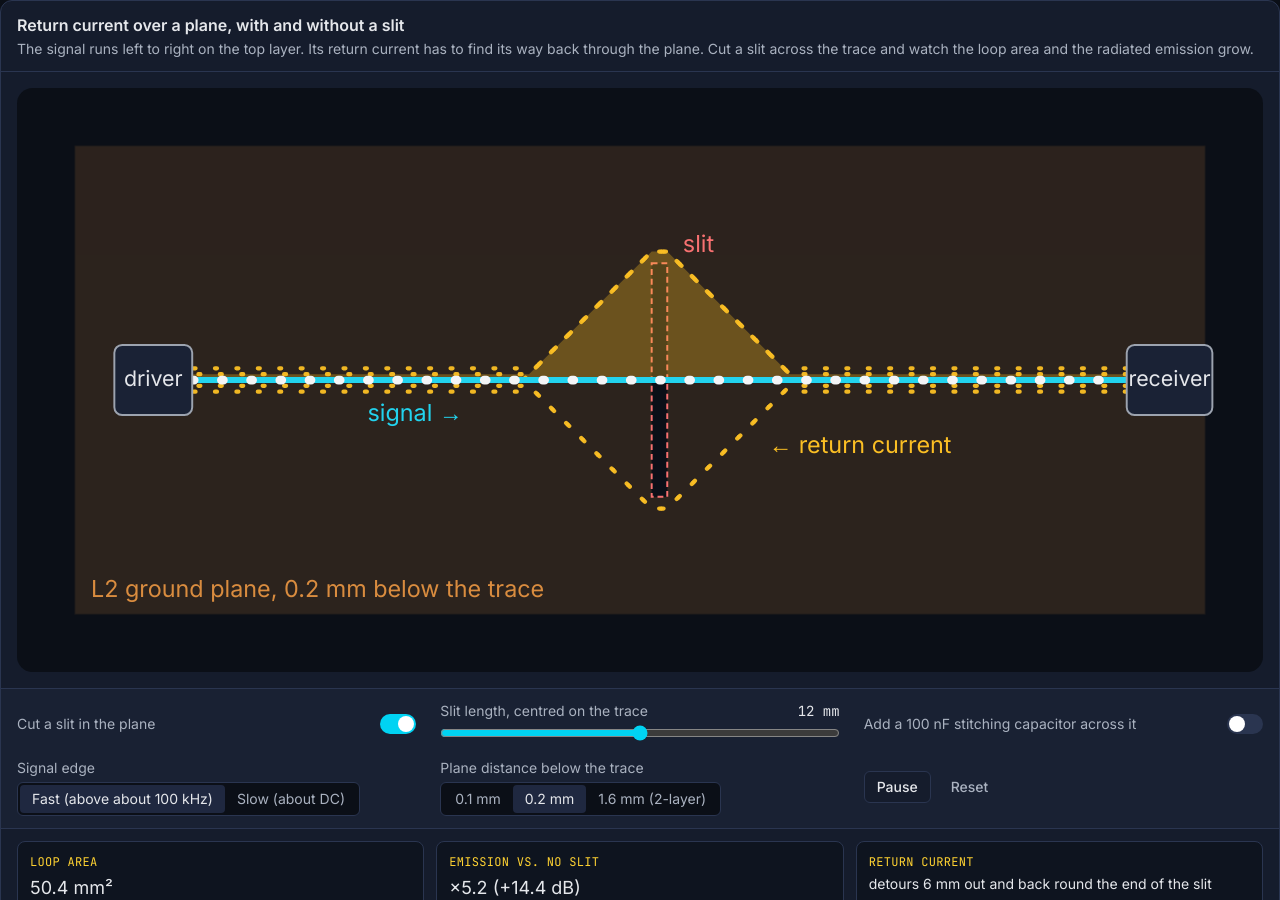
Scenario: ReturnPathDemo › a closer plane gives a smaller loop and slow signals have no loop to measure
The image size is (1280, 900).
Click the switch labelled "Cut a slit in the plane" at (86, 723), box [17,701,416,746]
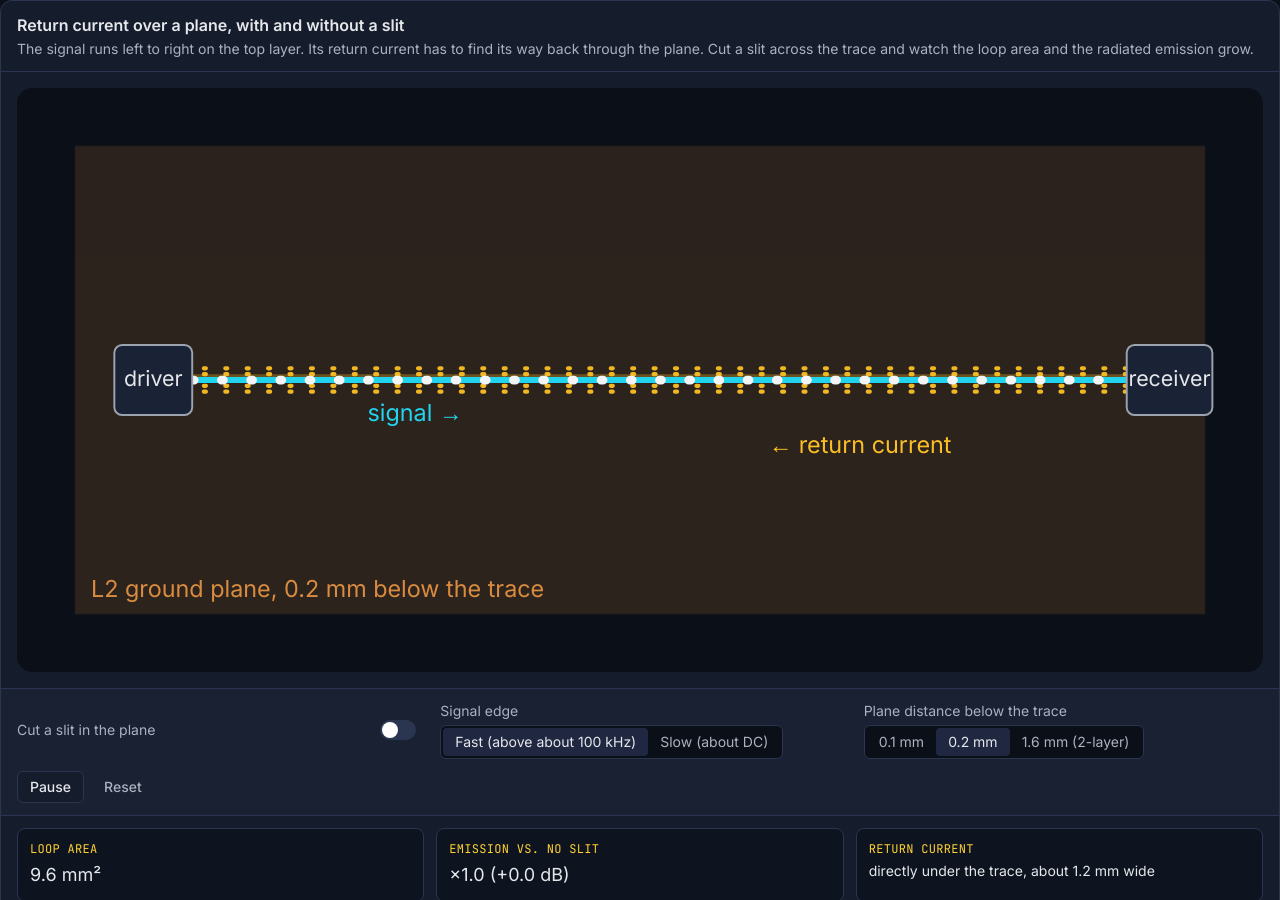
Click the radio button labelled "0.1 mm" at (901, 742), box [867,728,936,756]
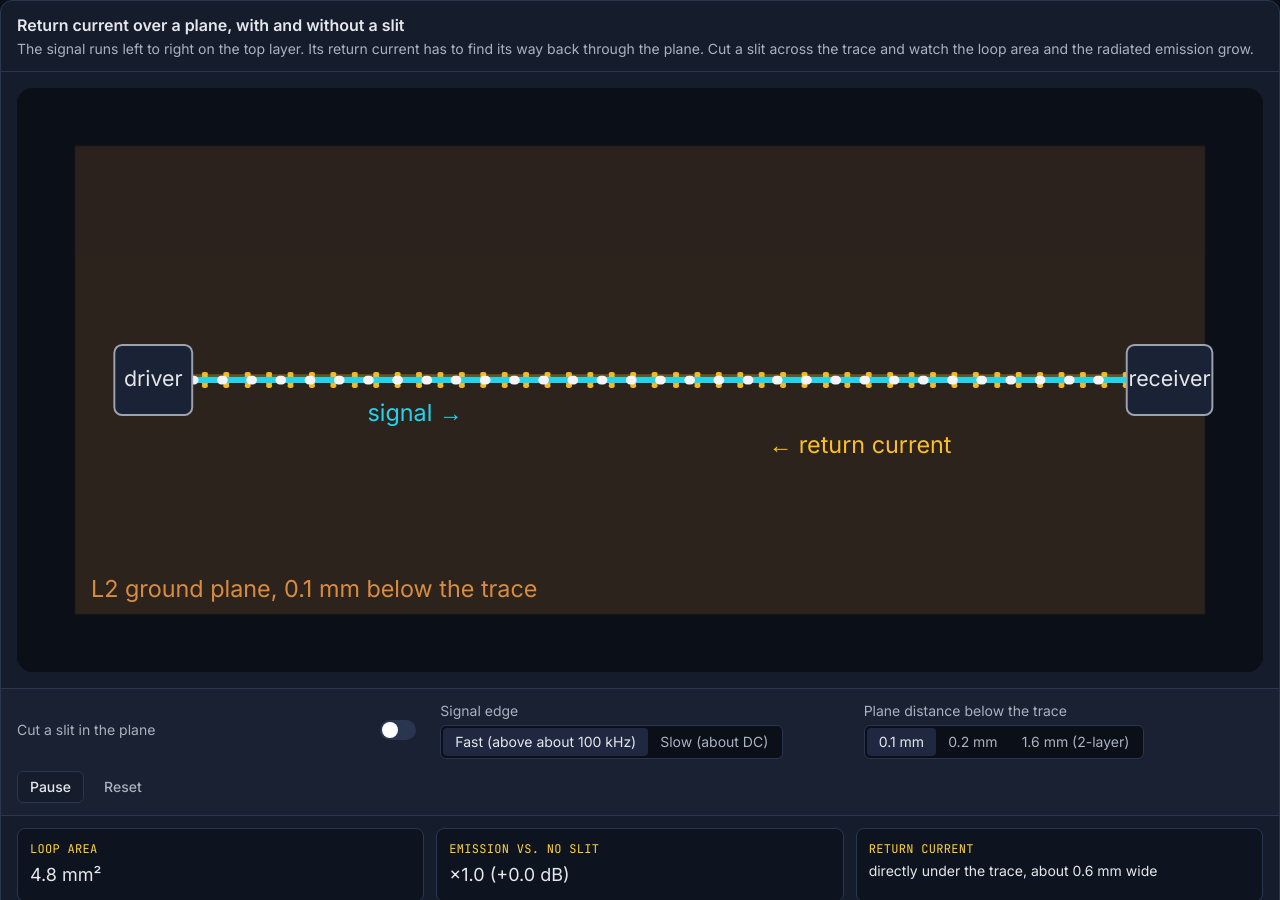
Click the radio button labelled "1.6 mm (2-layer)" at (1075, 742), box [1010,728,1141,756]
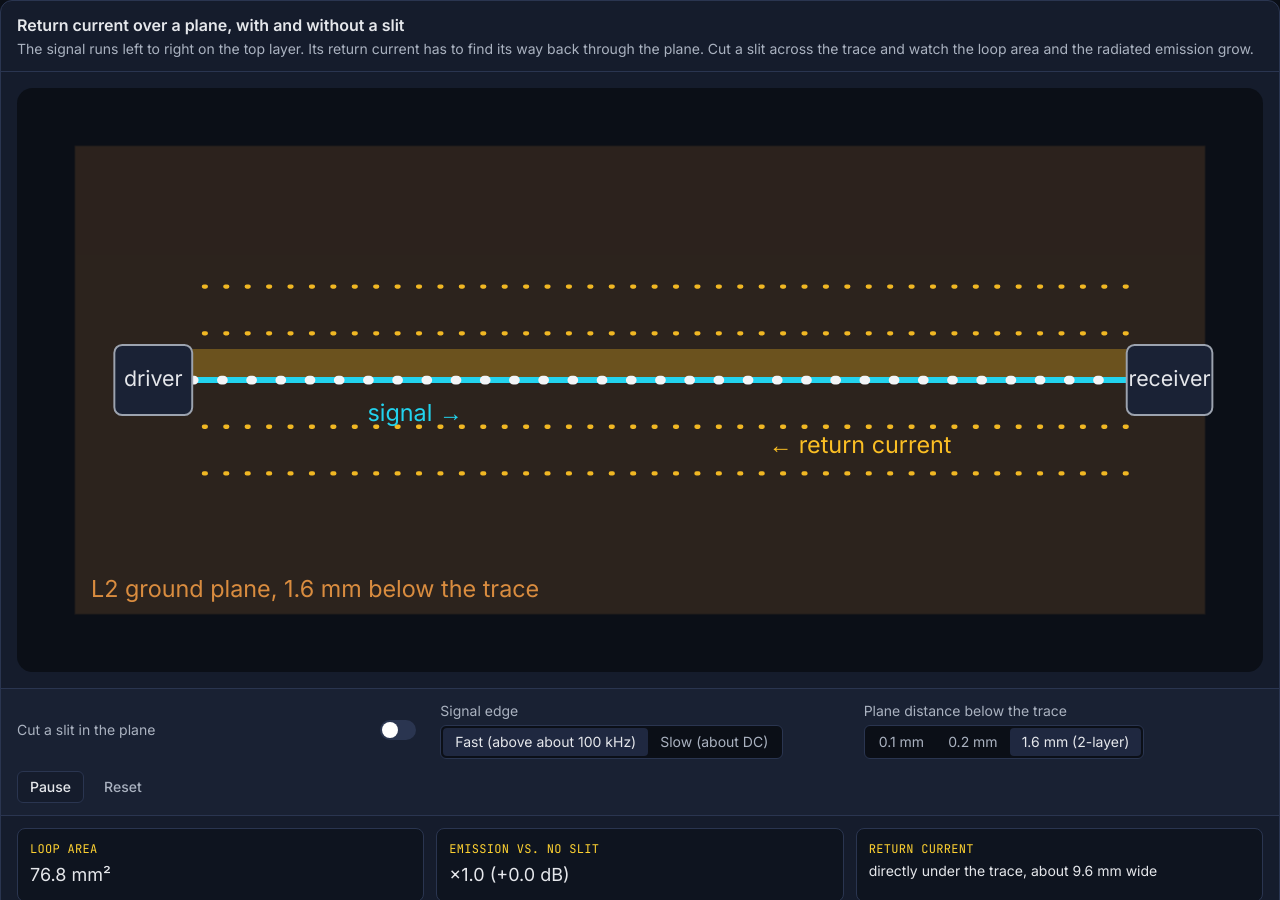
Click the radio button labelled "Slow (about DC)" at (714, 742), box [648,728,780,756]
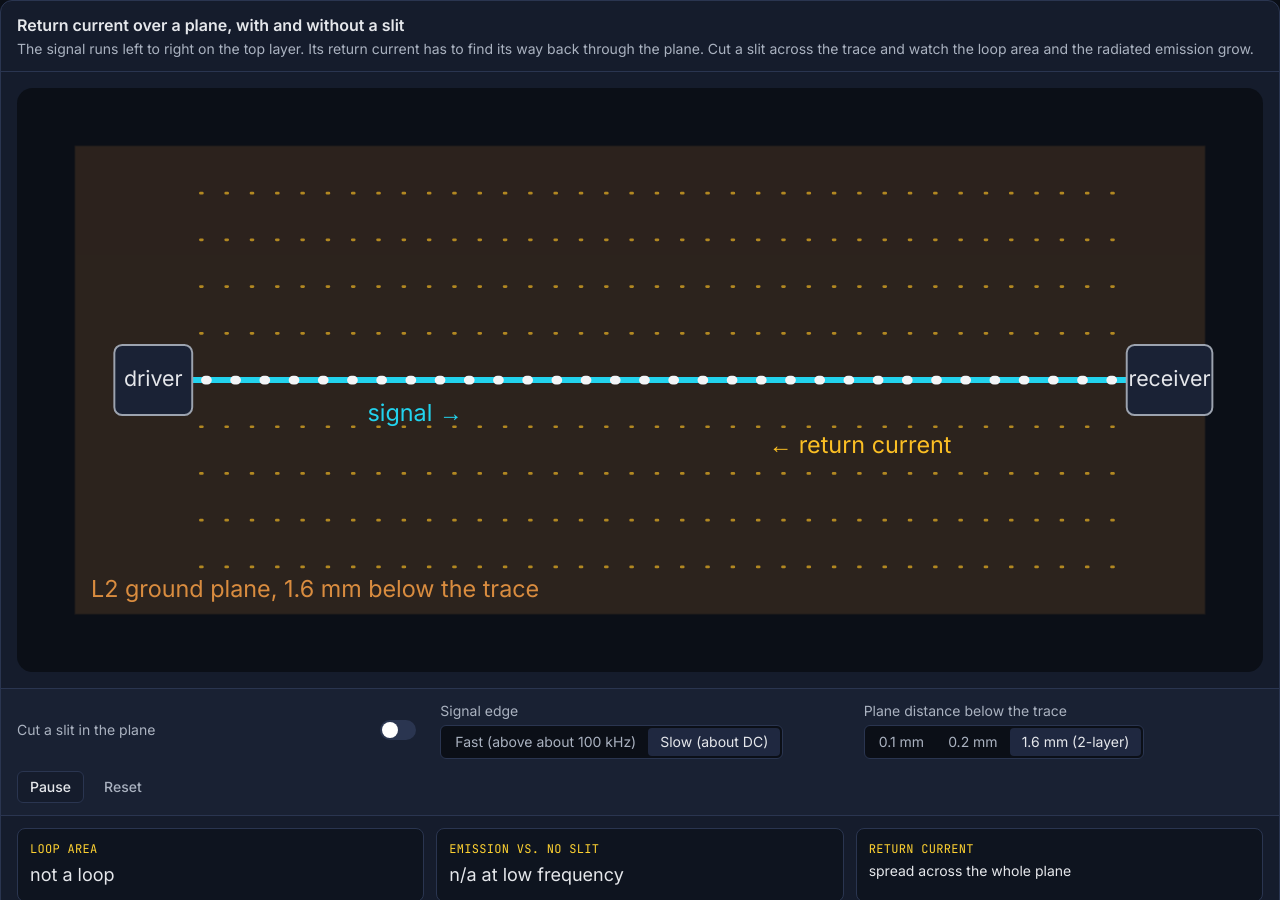
Result: the text with test id "return-path" shows "whole plane" at [869,862,1071,879]
